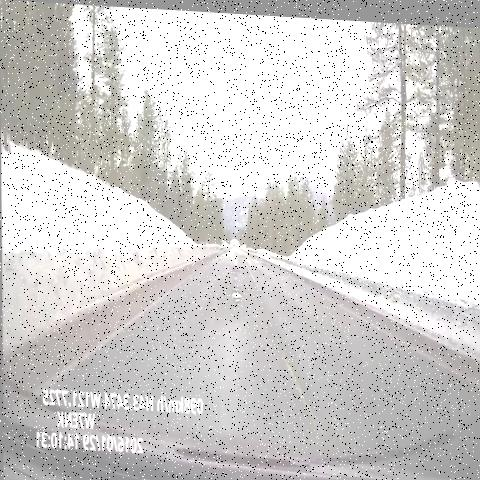pothole: (226, 279, 244, 306), (228, 259, 242, 282)
